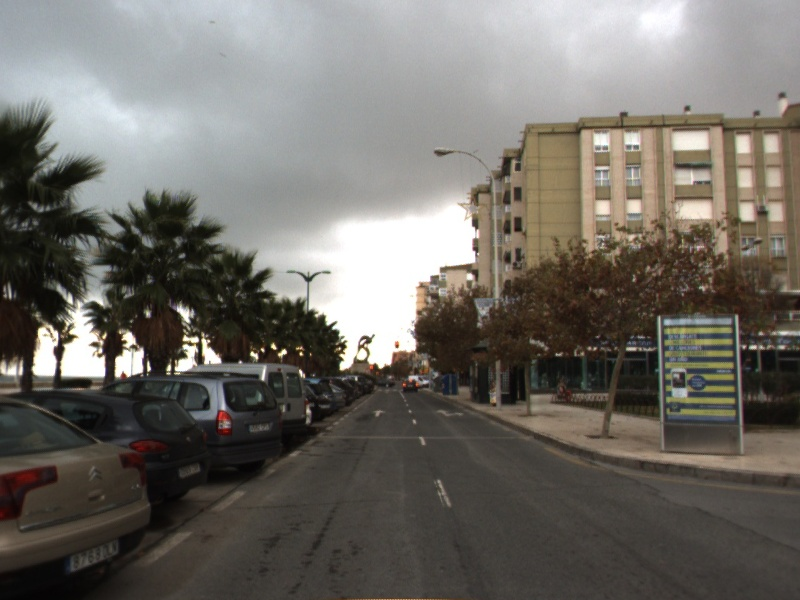STRAIGHT: (370, 408, 388, 418)
STRAIGHT_RIGHT: (434, 407, 468, 419)
